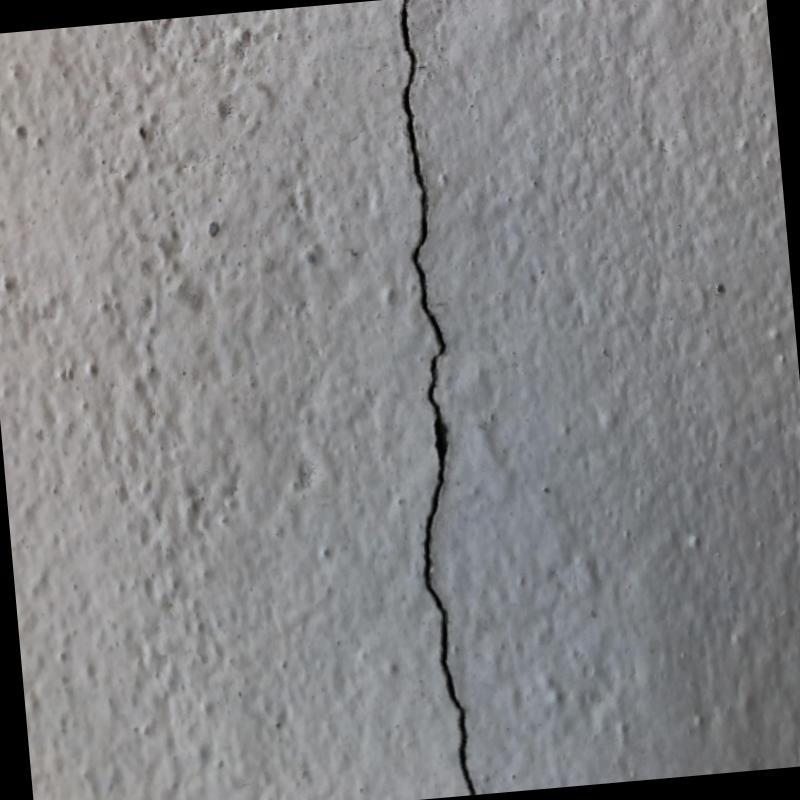pothole: (399, 0, 480, 794)
